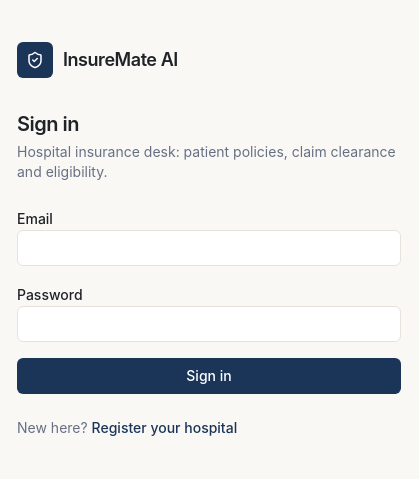
AuthPage › shows server errors
Type "a@example.com" into the field labelled "Email" at (209, 248), box [17, 230, 401, 266]
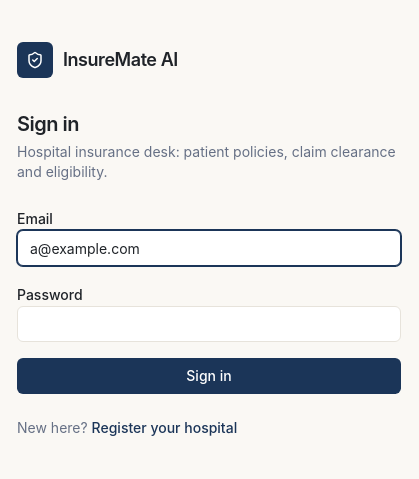
Type "whatever1" into the password field labelled "Password" at (209, 324), box [17, 306, 401, 342]
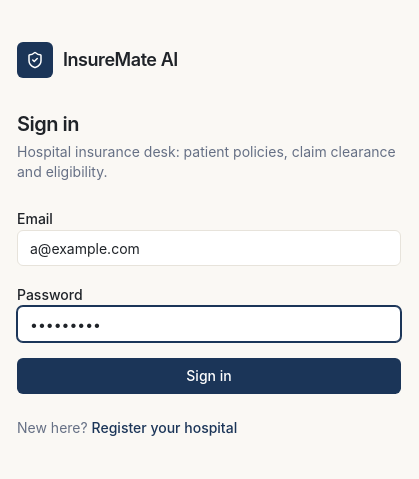
Click the button "Sign in" at (209, 376), box [17, 358, 401, 394]
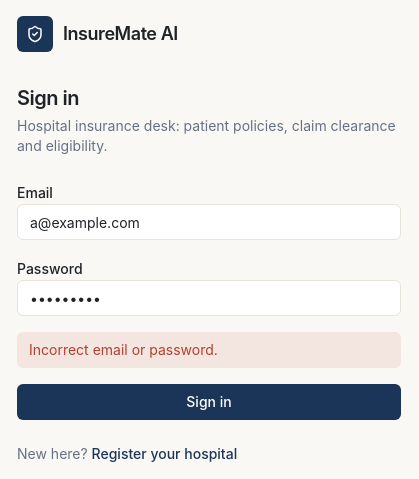
Check: the message reads "Incorrect email or password.", box [29, 341, 218, 358]
